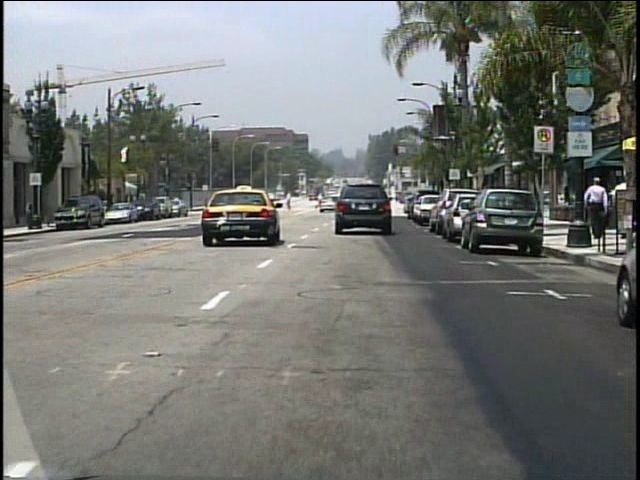person: (585, 176, 611, 239), (612, 174, 633, 238), (285, 192, 297, 213), (316, 192, 327, 212)
